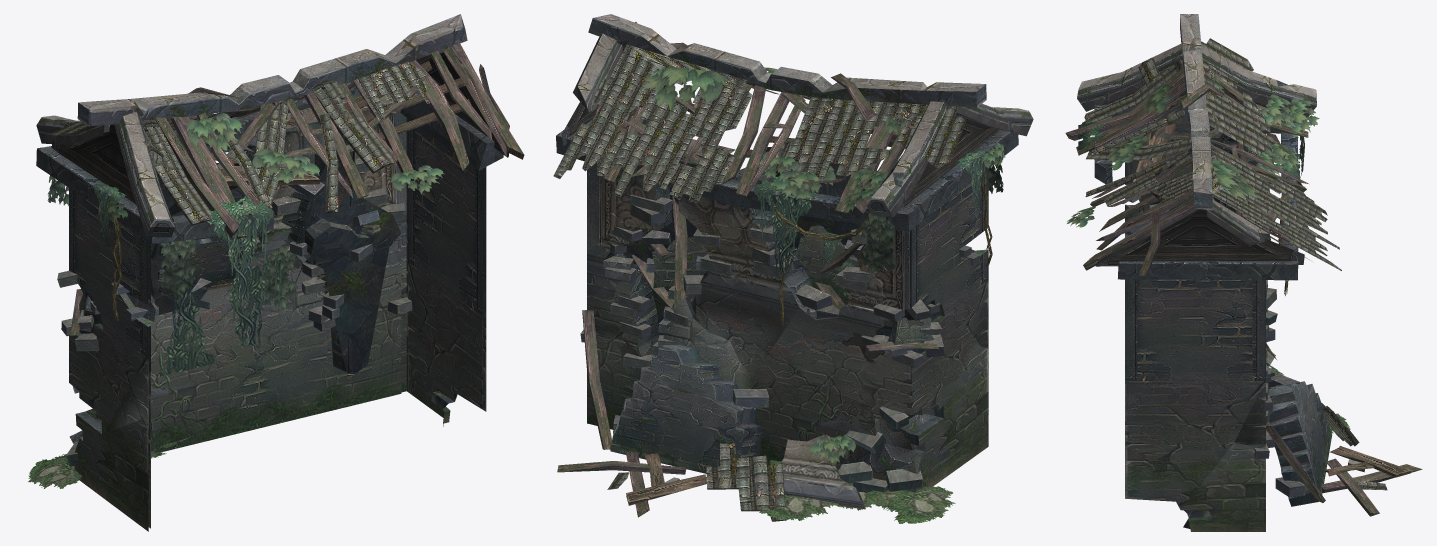
File: Ruins_2B.FBX
3 views of the same model, side by side, from view 1: azimuth 30°, elevation 25°; view 2: azimuth 150°, elevation 25°; view 3: azimuth 270°, elevation 25° (orthographic). The views are drawn at different scales.
Parts seen in each view (by area): view 1: Ruins_2; view 2: Ruins_2; view 3: Ruins_2.
Boxes of the visible parts, x1,y1,x2,y2 form: Ruins_2: (28, 14, 524, 531); Ruins_2: (553, 14, 1033, 523); Ruins_2: (1065, 14, 1422, 531).
Size of the model in its own units: 488 by 454 by 400.
